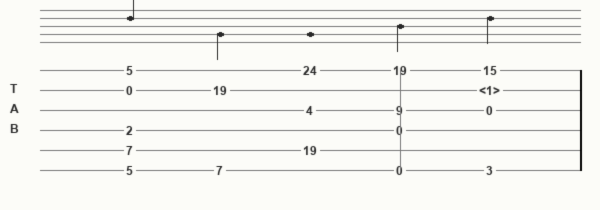0: (126, 84, 137, 97), (396, 164, 407, 177), (396, 124, 407, 137), (486, 104, 497, 117)
15: (483, 64, 501, 77)
19: (213, 84, 231, 97), (303, 144, 321, 157), (393, 64, 411, 77)
2: (126, 124, 137, 137)
24: (303, 64, 321, 77)
3: (486, 164, 497, 177)
4: (306, 104, 317, 117)
5: (126, 64, 137, 77), (126, 164, 137, 177)
7: (126, 144, 137, 157), (216, 164, 227, 177)
9: (396, 104, 407, 117)
harmonic: (479, 84, 504, 97)
